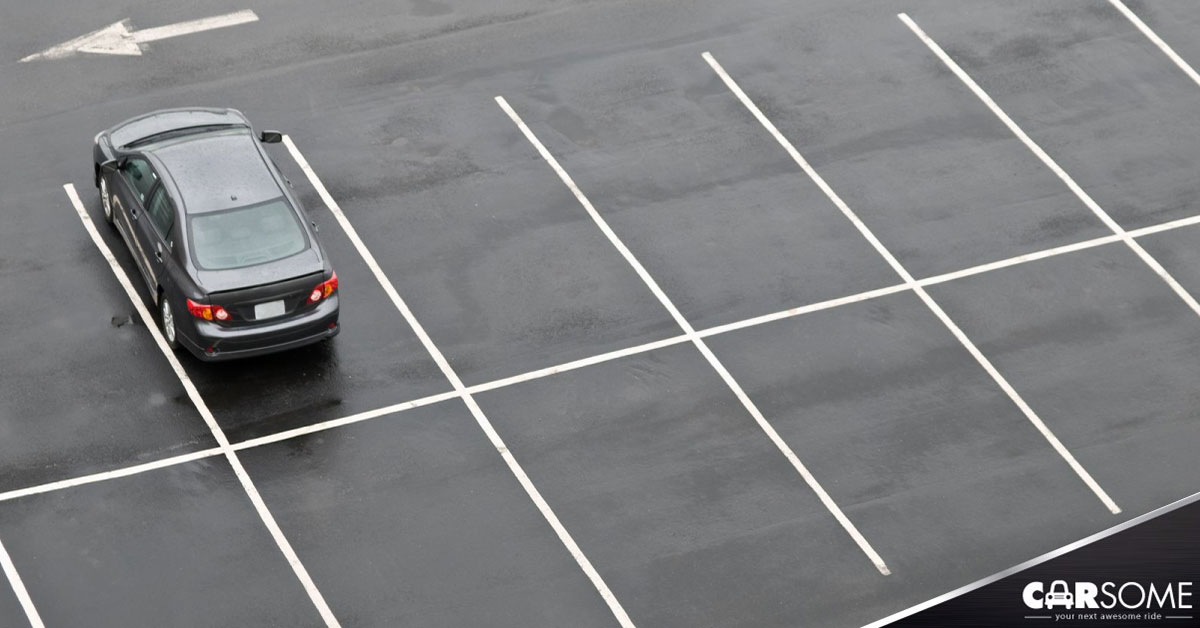empyt_space: (486, 47, 938, 347), (443, 328, 893, 628), (279, 91, 733, 387), (689, 285, 1140, 578), (696, 11, 1130, 295), (198, 386, 649, 628), (891, 231, 1200, 514), (1, 177, 240, 500), (892, 5, 1200, 239), (1, 427, 356, 628)
